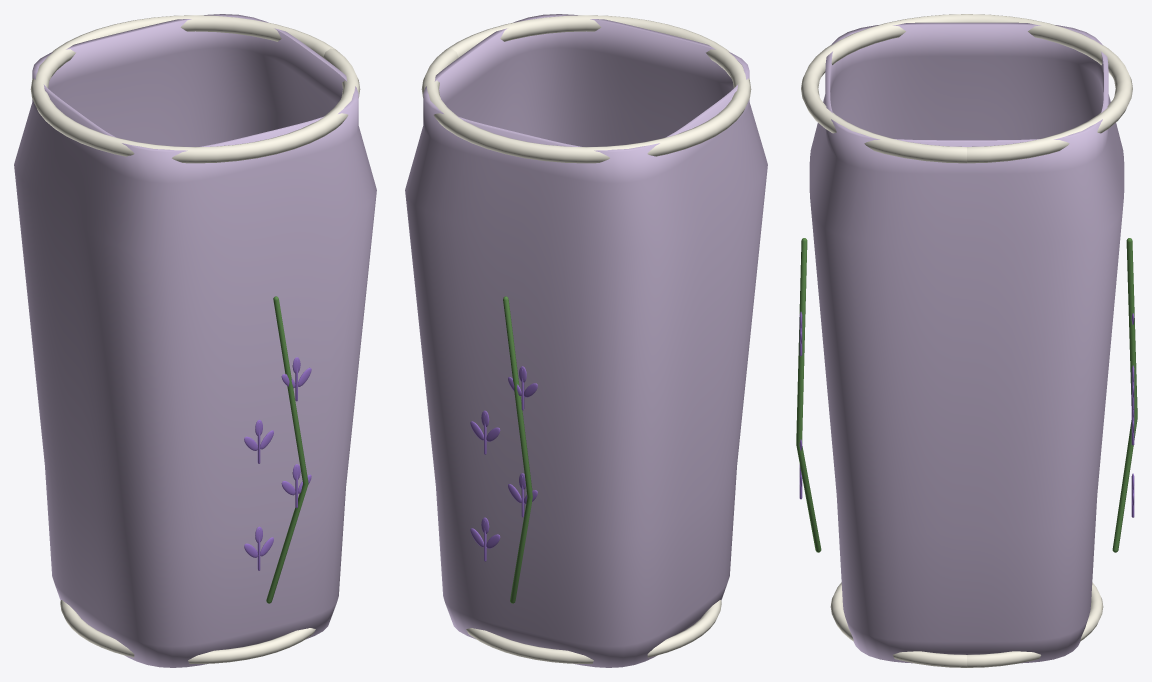
Rendered from stock_vase_lavender.glb.
The picture shows the model from 3 angles, left to right: view 1: azimuth 30°, elevation 25°; view 2: azimuth 150°, elevation 25°; view 3: azimuth 270°, elevation 25°; orthographic projection.
Parts seen in each view (by area): view 1: Continuous_hollow_vessel, Rolled_open_lip, Base_ring, Etched_sprig.001; view 2: Continuous_hollow_vessel, Rolled_open_lip, Base_ring, Etched_sprig; view 3: Continuous_hollow_vessel, Rolled_open_lip, Base_ring, Etched_sprig.001, Etched_sprig.
Boxes of the visible parts, x1,y1,x2,y2 form: Continuous_hollow_vessel: (14, 14, 376, 667); Rolled_open_lip: (30, 15, 360, 163); Base_ring: (60, 600, 315, 663); Etched_sprig.001: (266, 296, 308, 603); Continuous_hollow_vessel: (405, 14, 767, 667); Rolled_open_lip: (421, 15, 751, 163); Base_ring: (466, 600, 721, 663); Etched_sprig: (503, 296, 532, 603); Continuous_hollow_vessel: (809, 22, 1124, 663); Rolled_open_lip: (801, 14, 1132, 163); Base_ring: (830, 582, 1103, 667); Etched_sprig.001: (796, 238, 821, 552); Etched_sprig: (1112, 238, 1137, 552).
Size of the model in its own units: 0.19 by 0.341 by 0.1954.
